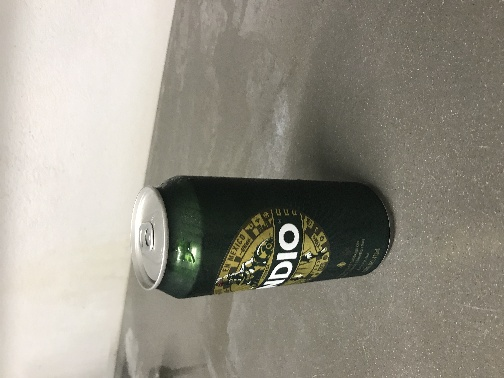IL: (90, 124, 288, 221)
